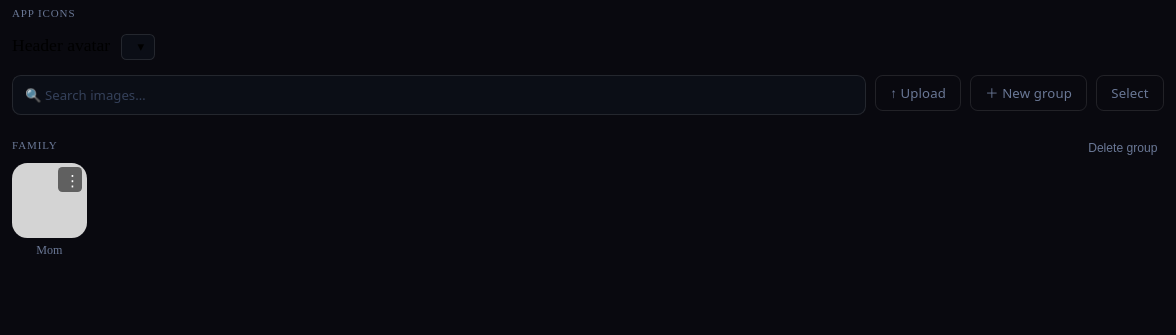
Scenario: ImageIconsTab › lists grouped thumbs and opens the kebab menu
Expected: the text "Family" is shown, [12,139,58,151]
Click the button named "Actions for Mom". click: (70, 180)
box: [58,167,82,192]
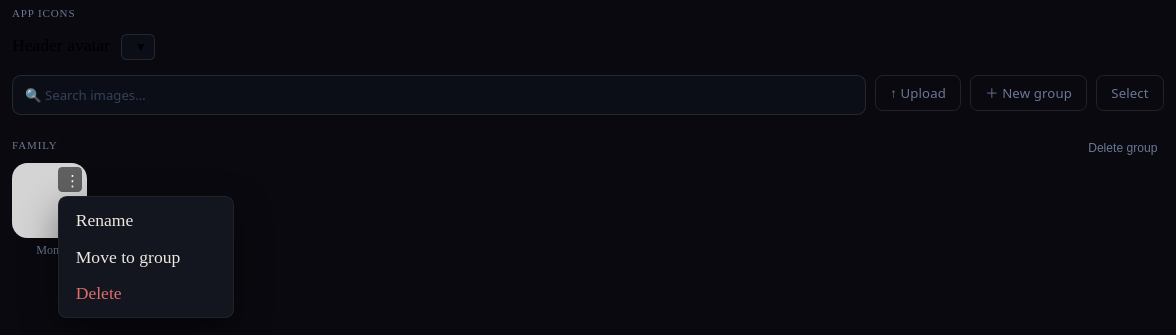
Expected: the menu item "Rename" is shown, [65,202,228,239]
Expected: the menu item "Delete" is shown, [65,275,228,312]
